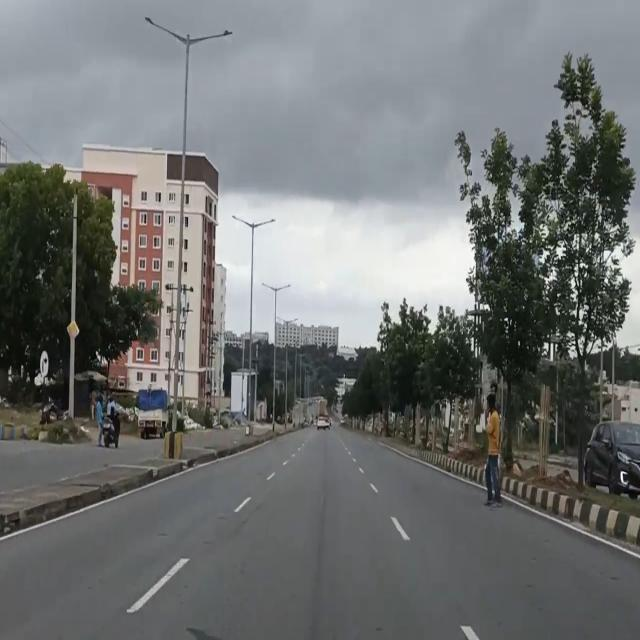bien_cam: (40, 349, 50, 378)
